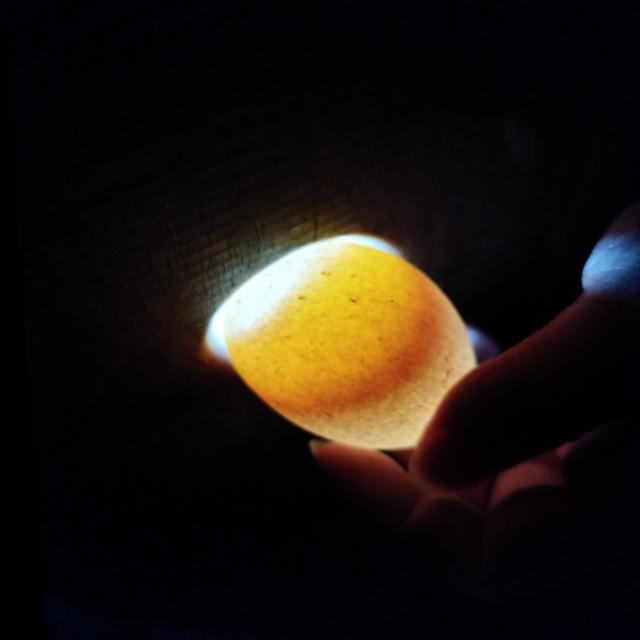Camara de Ar: (216, 243, 341, 333)
Gema Quebrada: (251, 272, 437, 417)
